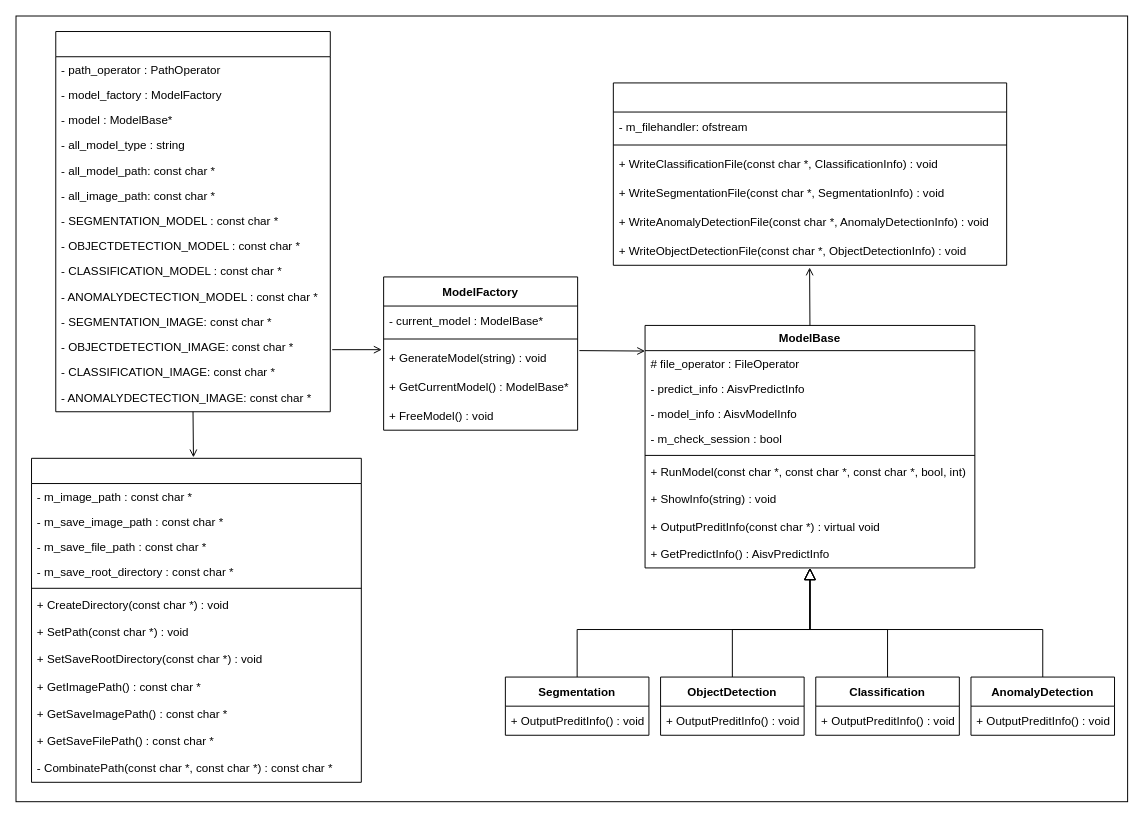
This 1144x818 diagram has some shape labels left out. The box of each missing label's shape, as (x1, y1, x2, y2) in pixels:
CleanCodeTestApp: (55, 31, 330, 412)
FileOperator: (612, 82, 1007, 265)
PathOperator: (31, 457, 361, 782)
